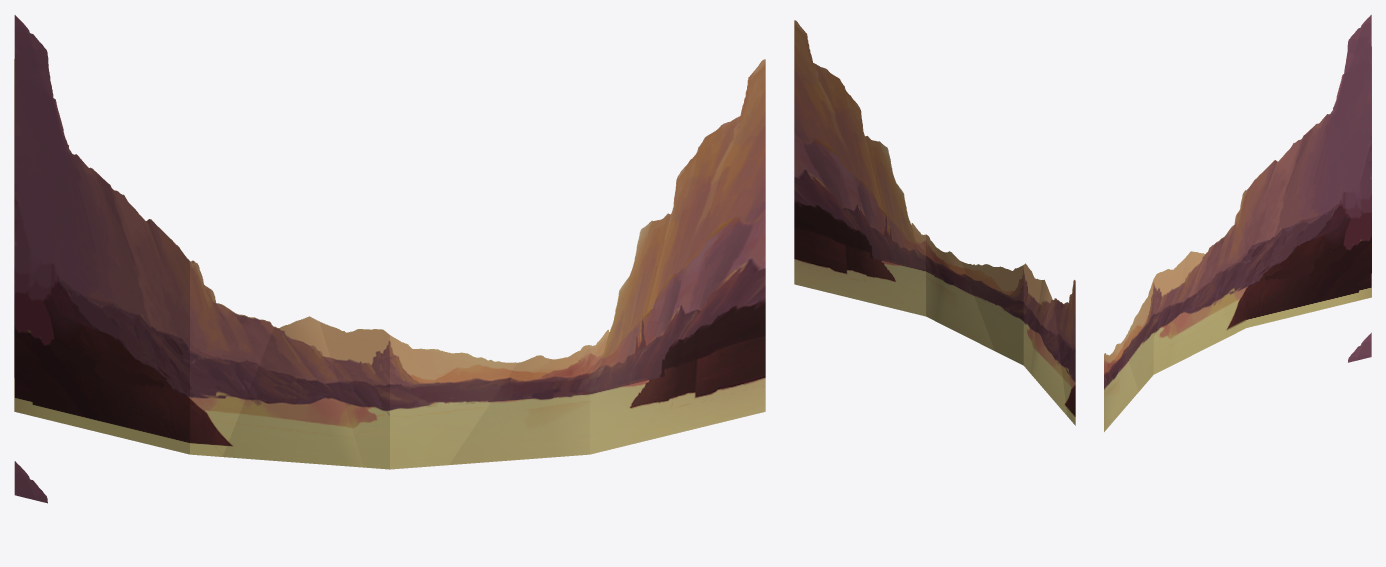
File: skyback_hill.FBX
3 renders of one model, left to right at view 1: azimuth 30°, elevation 25°; view 2: azimuth 150°, elevation 25°; view 3: azimuth 270°, elevation 25°, orthographic. The views are drawn at different scales.
Parts seen in each view (by area): view 1: skyback_hill; view 2: skyback_hill; view 3: skyback_hill.
Boxes of the visible parts, <box> form: skyback_hill: <box>14,15,765,503</box>; skyback_hill: <box>794,20,1075,425</box>; skyback_hill: <box>1104,14,1371,431</box>.
Size of the model in its own units: 223 by 182 by 129.
Materials: 1 (1 with a texture image).
